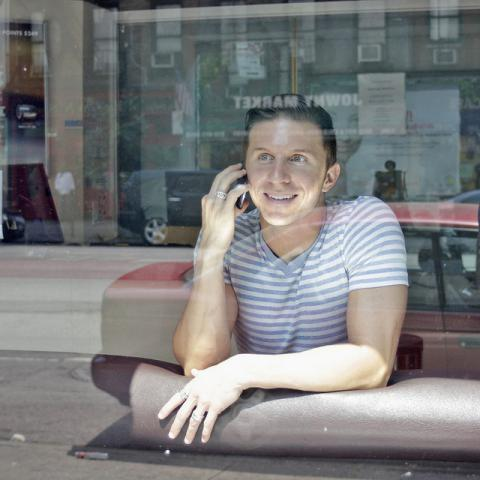car: (386, 202, 479, 374), (116, 166, 225, 247), (0, 210, 25, 242)
